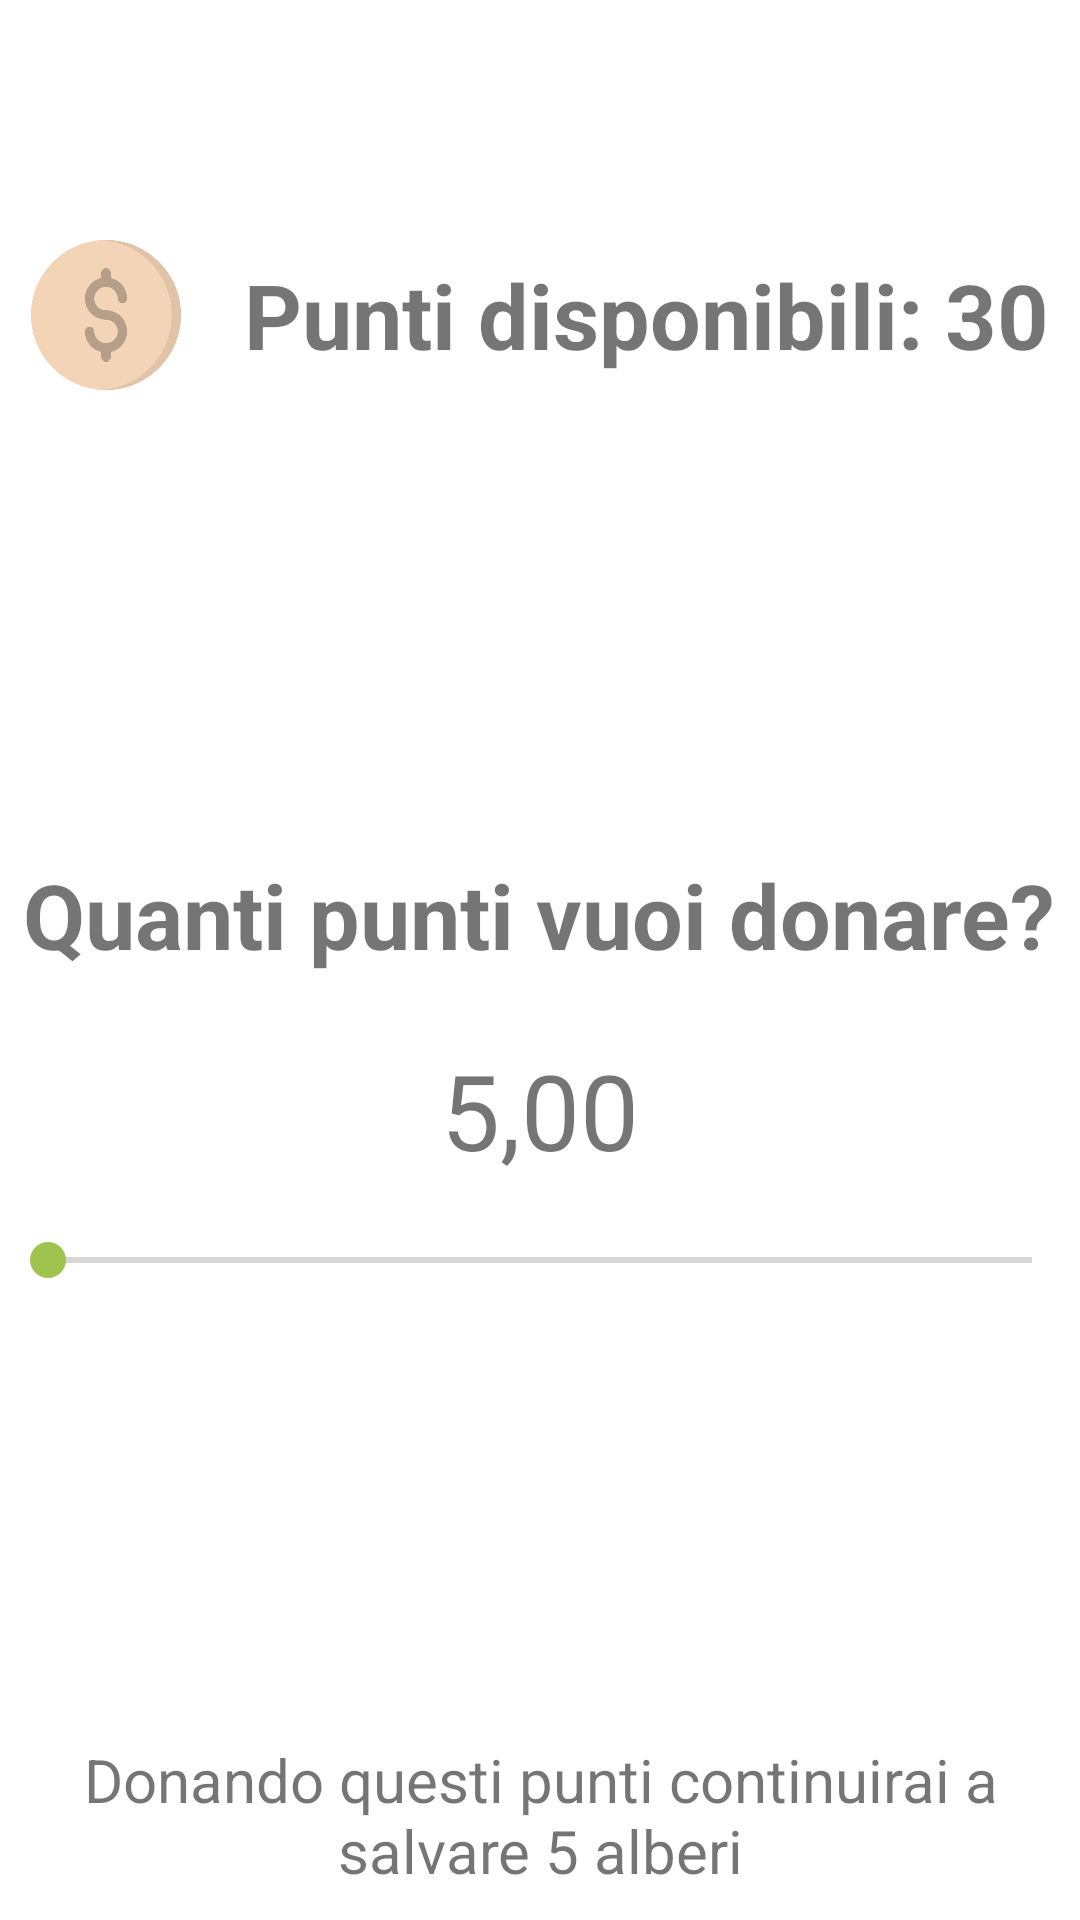

Icons on this 1080px×1920px Android screen, each with its box as (x1, y1, x2, y2):
dollardonation: (31, 240, 181, 390)
